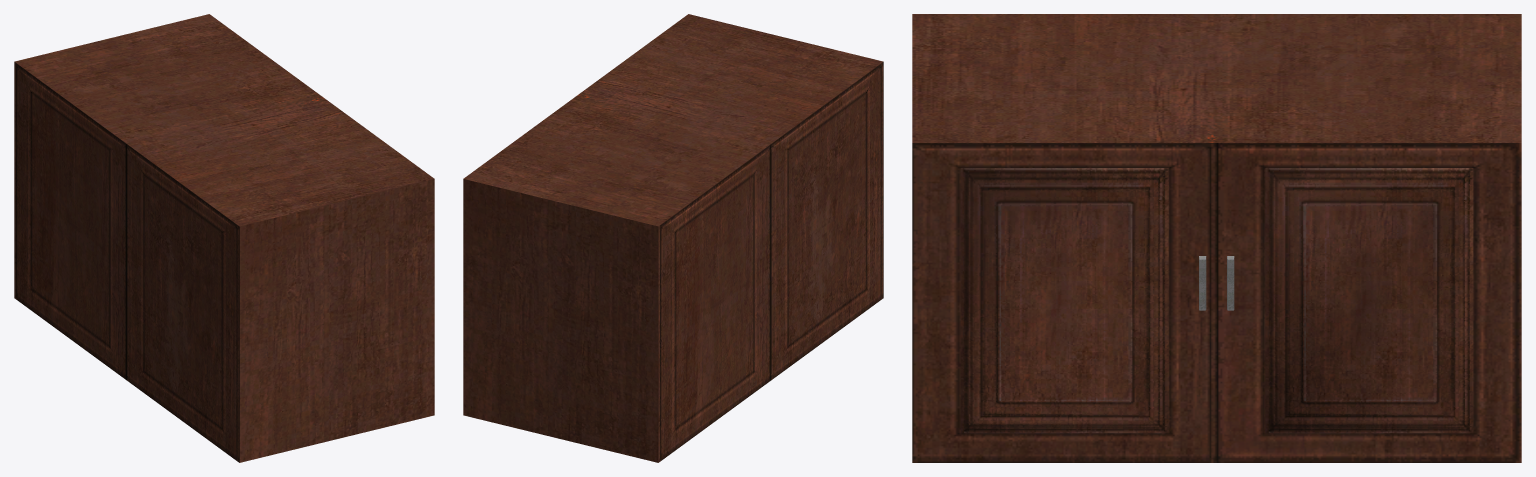
Rendered from Building_Kitchencabinet05.glb.
3 views of the same model, side by side, from view 1: azimuth 30°, elevation 25°; view 2: azimuth 150°, elevation 25°; view 3: azimuth 270°, elevation 25° (orthographic). The views are drawn at different scales.
Visible parts, largest first — view 1: xiutz_kitchencabinet_05; view 2: xiutz_kitchencabinet_05; view 3: xiutz_kitchencabinet_05.
Boxes of the visible parts, x1,y1,x2,y2 form: xiutz_kitchencabinet_05: (14,14,434,462); xiutz_kitchencabinet_05: (463,14,883,462); xiutz_kitchencabinet_05: (912,14,1521,462).
Size of the model in its own units: 0.7131 by 0.8106 by 1.4.
Materials: 1 (1 with a texture image).
